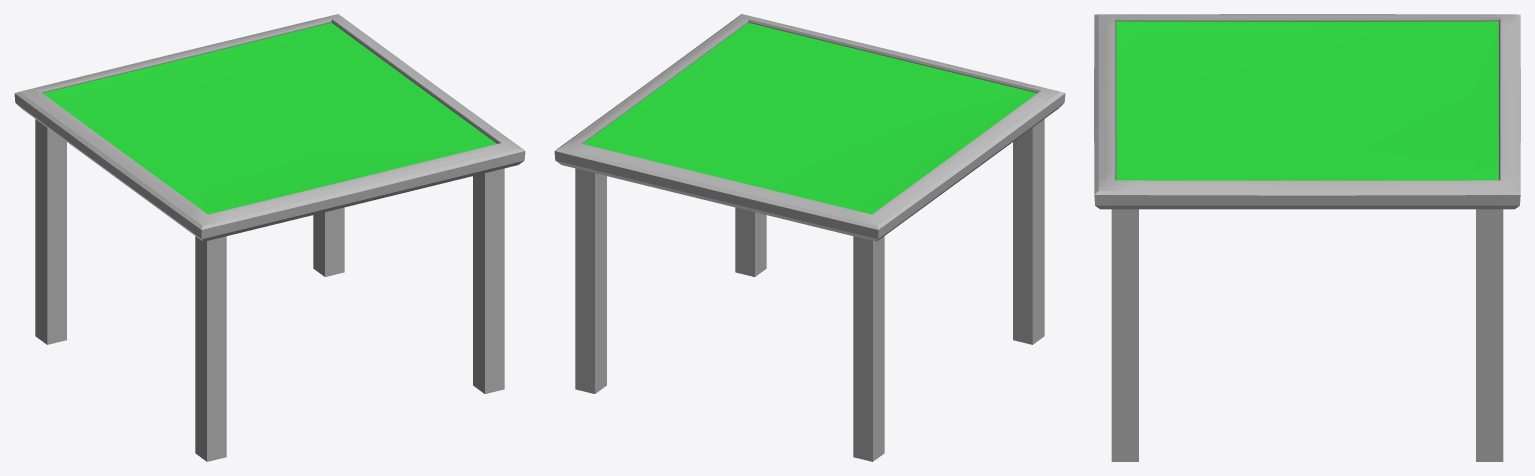
File: Tafel2.fbx
3 views of the same model, side by side, from view 1: azimuth 30°, elevation 25°; view 2: azimuth 150°, elevation 25°; view 3: azimuth 270°, elevation 25° (orthographic). The views are drawn at different scales.
Parts seen in each view (by area): view 1: Row; view 2: Row; view 3: Row.
Part boxes in pixels (left/top/right/bottom): Row: left=14, top=14, right=525, bottom=461; Row: left=554, top=14, right=1065, bottom=461; Row: left=1094, top=14, right=1520, bottom=461.
Bounding box in the file's own units: 114 × 82.63 × 114.
